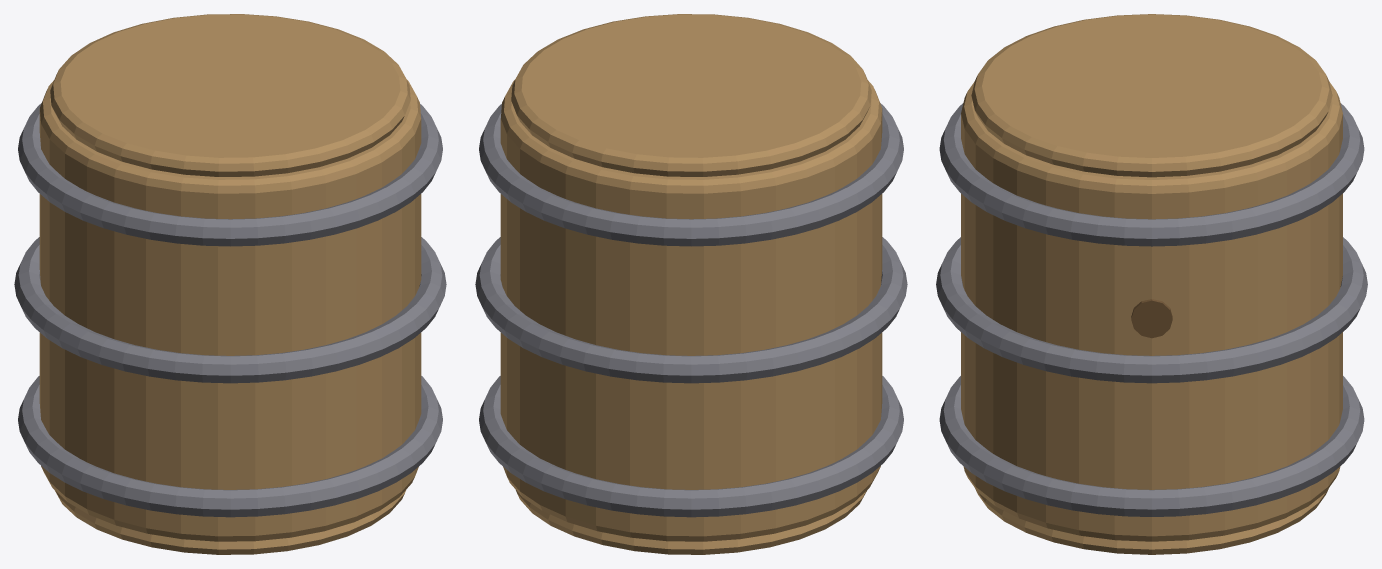
File: Barrel.fbx
3 views of the same model, side by side, from view 1: azimuth 30°, elevation 25°; view 2: azimuth 150°, elevation 25°; view 3: azimuth 270°, elevation 25° (orthographic).
Visible parts, largest first — view 1: Body, TopCap, Hoop_0.0, Hoop_0.52, Hoop_-0.52, BotCap; view 2: Body, TopCap, Hoop_0.0, Hoop_0.52, Hoop_-0.52, BotCap; view 3: Body, TopCap, Hoop_0.0, Hoop_0.52, Hoop_-0.52, BotCap, Bung.
Boxes of the visible parts, box(x1,y1,x2,y2) form: Body: box(39, 80, 421, 541); TopCap: box(50, 14, 410, 176); Hoop_0.0: box(14, 237, 446, 383); Hoop_0.52: box(18, 103, 442, 246); Hoop_-0.52: box(18, 376, 442, 517); BotCap: box(55, 490, 405, 554); Body: box(500, 80, 882, 541); TopCap: box(511, 14, 871, 176); Hoop_0.0: box(475, 237, 907, 383); Hoop_0.52: box(479, 103, 903, 246); Hoop_-0.52: box(479, 376, 903, 517); BotCap: box(516, 490, 866, 554); Body: box(961, 82, 1342, 541); TopCap: box(971, 14, 1332, 177); Hoop_0.0: box(936, 237, 1367, 383); Hoop_0.52: box(939, 103, 1364, 246); Hoop_-0.52: box(939, 376, 1364, 516); BotCap: box(975, 488, 1328, 554); Bung: box(1131, 299, 1172, 338).
Size of the model in its own units: 124 by 126 by 124.
